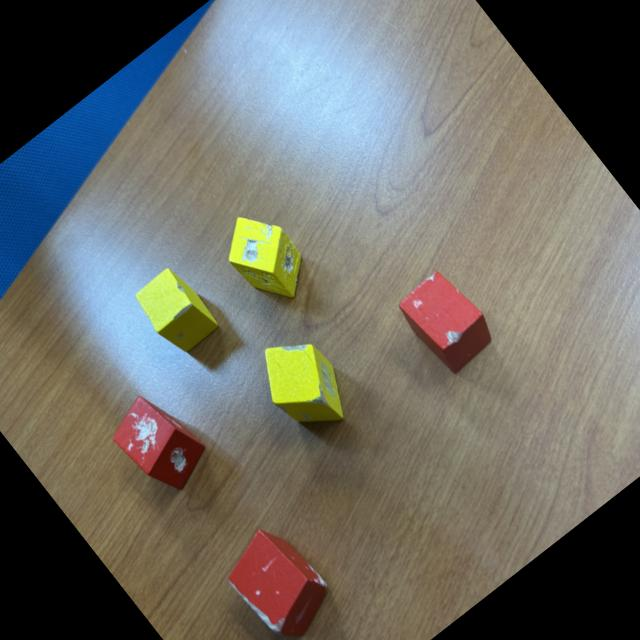broken: (214, 515, 344, 640), (244, 321, 364, 447), (102, 383, 218, 504), (210, 198, 321, 316), (391, 264, 502, 379), (129, 262, 223, 360)
